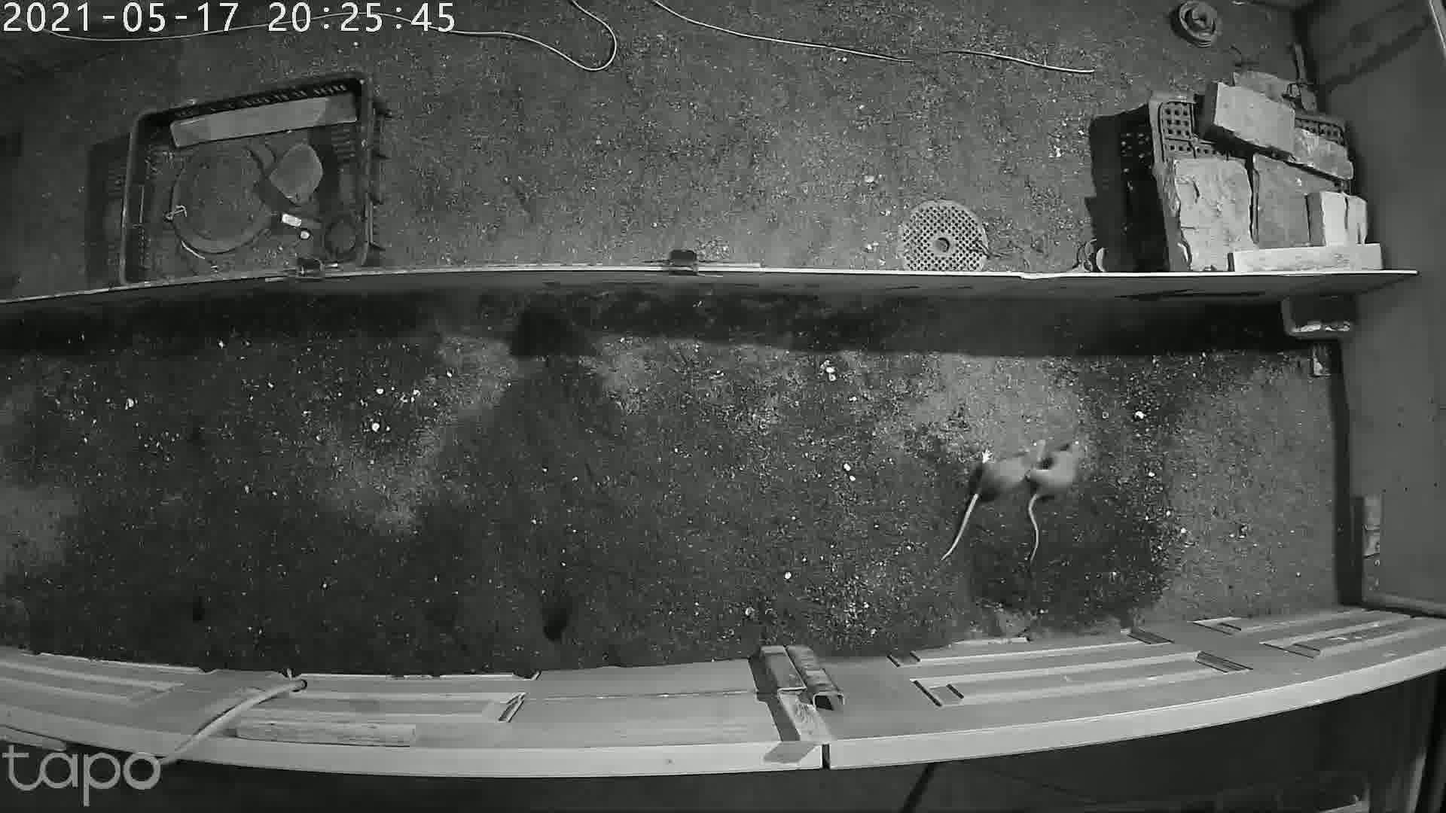rat: (914, 432, 1039, 579), (1006, 428, 1101, 560)
